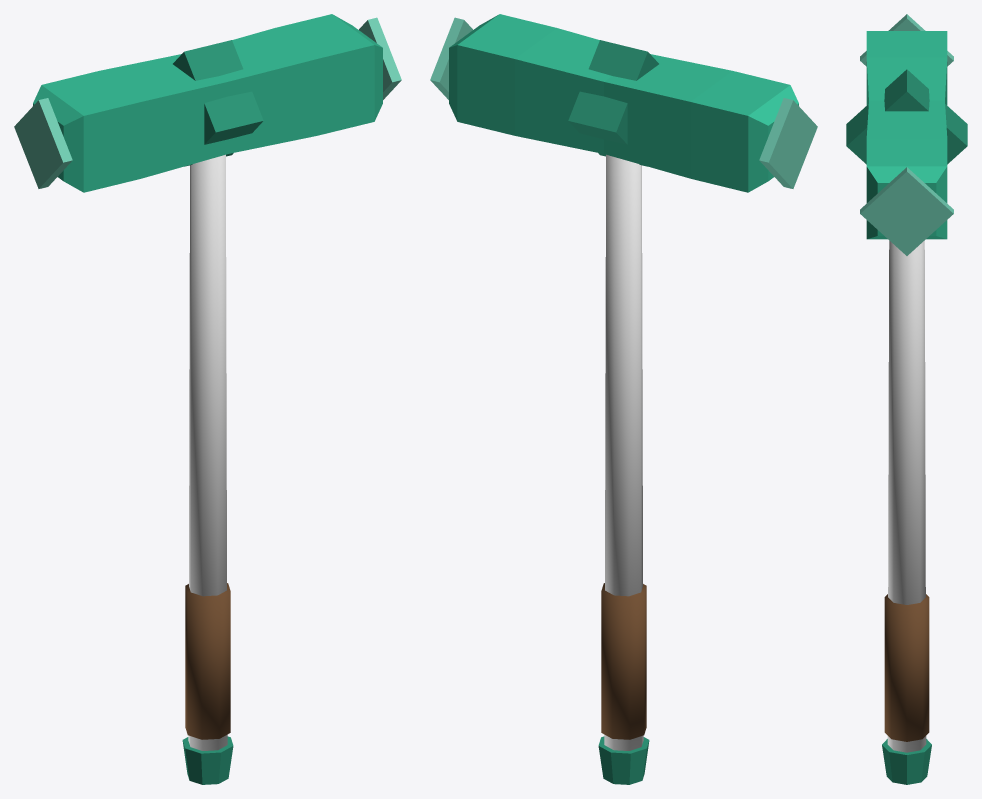
Rendered from mythril_hammer.glb.
3 renders of one model, left to right at view 1: azimuth 30°, elevation 25°; view 2: azimuth 150°, elevation 25°; view 3: azimuth 270°, elevation 25°, orthographic. The views are drawn at different scales.
Visible parts, largest first — view 1: mythril_hammer_v0; view 2: mythril_hammer_v0; view 3: mythril_hammer_v0.
Boxes of the visible parts, x1,y1,x2,y2 form: mythril_hammer_v0: [14, 14, 401, 784]; mythril_hammer_v0: [430, 14, 817, 784]; mythril_hammer_v0: [846, 14, 967, 784].
Bounding box in the file's own units: 0.424 × 0.8739 × 0.1378.
